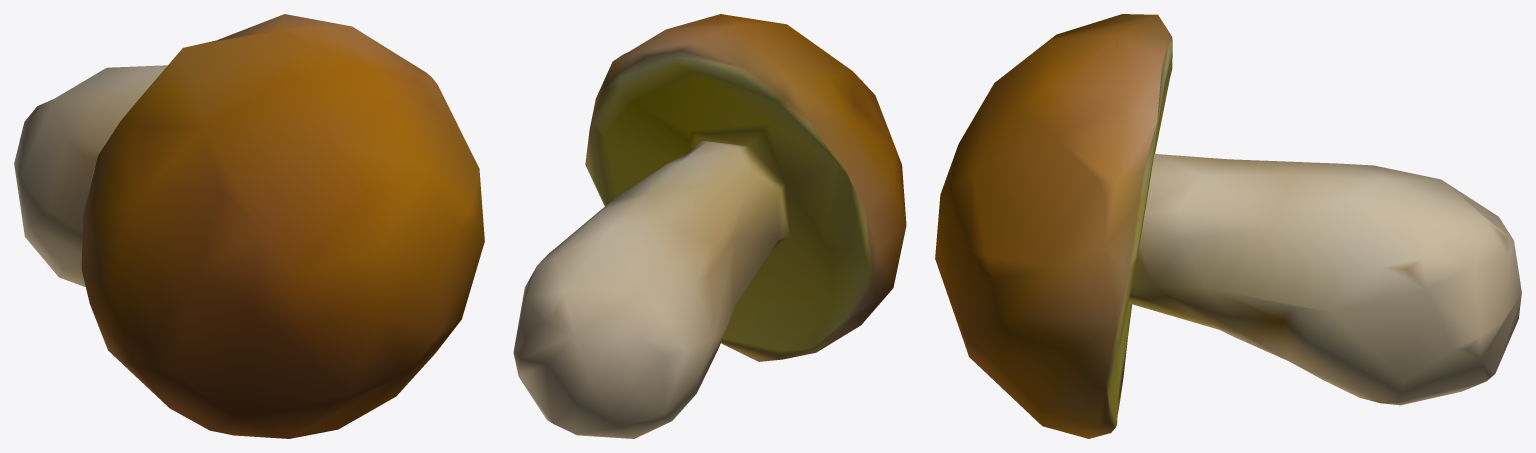
File: forage_mushroom.glb
3 views of the same model, side by side, from view 1: azimuth 30°, elevation 25°; view 2: azimuth 150°, elevation 25°; view 3: azimuth 270°, elevation 25° (orthographic). The views are drawn at different scales.
Parts seen in each view (by area): view 1: forage_mushroom; view 2: forage_mushroom; view 3: forage_mushroom.
Part boxes in pixels (x1,y1,x2,y2): forage_mushroom: (14,14,484,438); forage_mushroom: (513,14,906,438); forage_mushroom: (935,14,1521,438).
Size of the model in its own units: 0.6973 by 0.714 by 0.9966.
